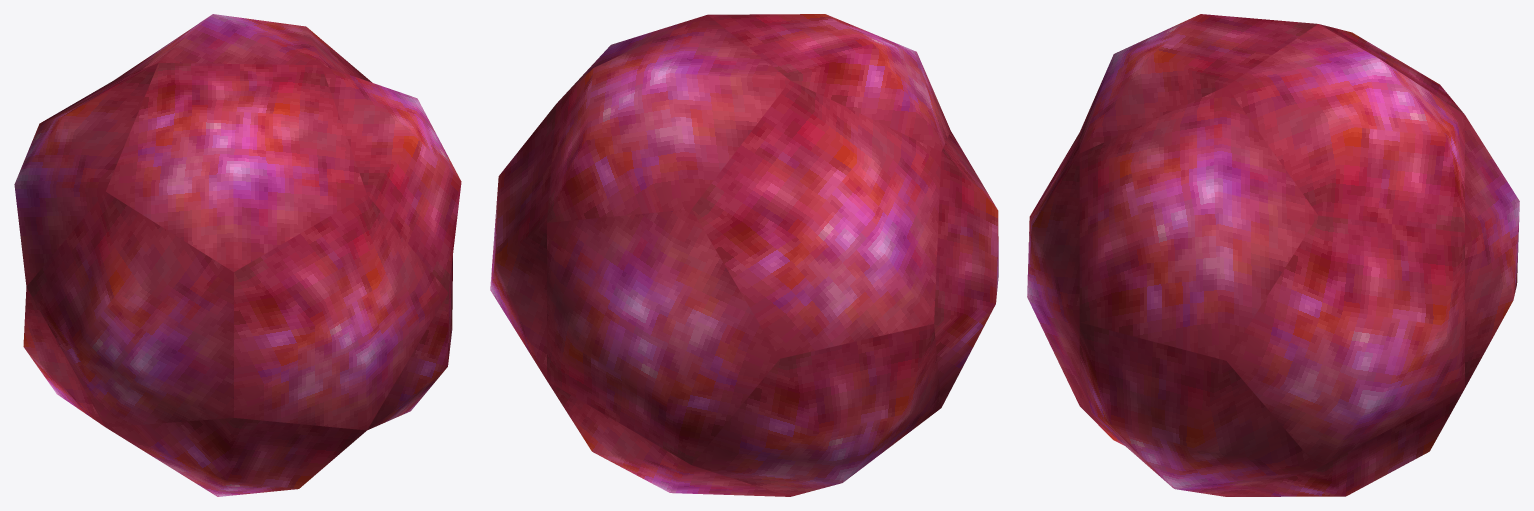
File: balinade_death.obj
3 views of the same model, side by side, from view 1: azimuth 30°, elevation 25°; view 2: azimuth 150°, elevation 25°; view 3: azimuth 270°, elevation 25° (orthographic). The views are drawn at different scales.
Parts seen in each view (by area): view 1: nodes_2__meshes[0]; view 2: nodes_2__meshes[0]; view 3: nodes_2__meshes[0].
Part boxes in pixels (x1=…): nodes_2__meshes[0]: x1=14, y1=14, x2=461, y2=496; nodes_2__meshes[0]: x1=490, y1=14, x2=998, y2=496; nodes_2__meshes[0]: x1=1027, y1=14, x2=1519, y2=496.
Size of the model in its own units: 391 by 377 by 397.
1 material, 1 textured.
